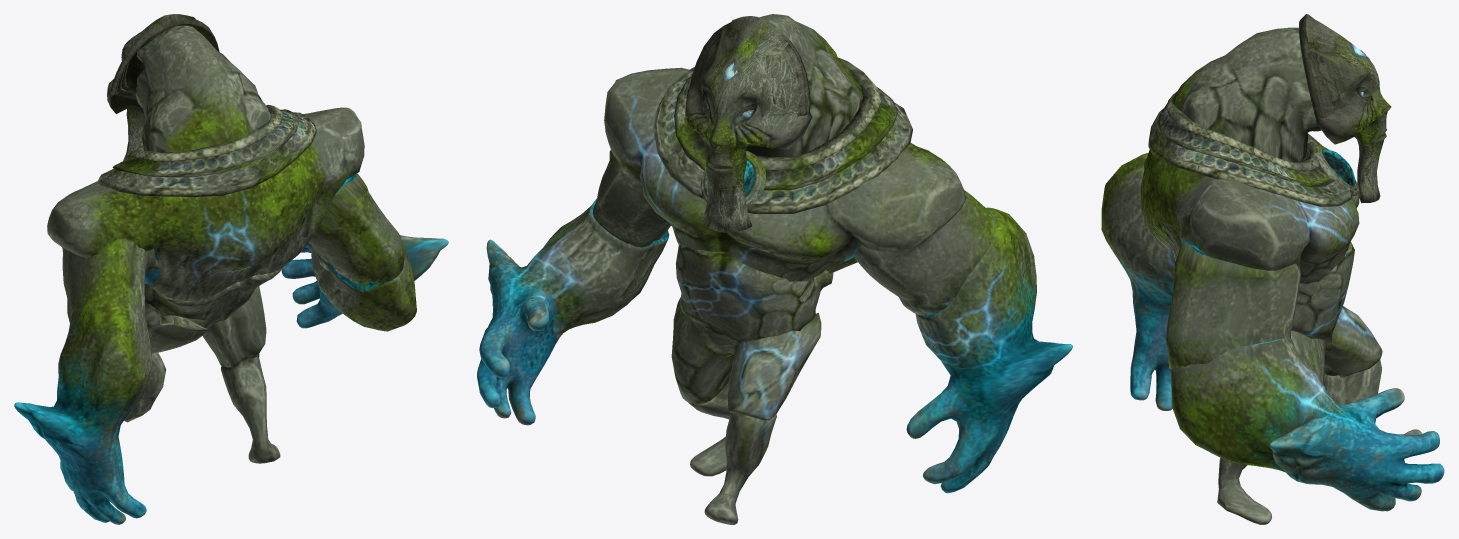
File: stone_sentinel.glb
3 views of the same model, side by side, from view 1: azimuth 30°, elevation 25°; view 2: azimuth 150°, elevation 25°; view 3: azimuth 270°, elevation 25° (orthographic). The views are drawn at different scales.
Parts seen in each view (by area): view 1: torso, L_elbow, head, R_elbow, R_shoulder, L_shoulder, turret01-arms, R_leg, R_hip, pelvis, L_hip, L_leg; view 2: torso, L_elbow, R_elbow, turret01-arms, pelvis, L_shoulder, head, L_hip, R_shoulder, R_hip, L_leg, R_leg; view 3: R_elbow, torso, head, R_shoulder, L_elbow, turret01-arms, pelvis, L_hip, R_leg, L_leg, R_hip.
Boxes of the visible parts, <box> form: torso: <box>47,105,364,302</box>; L_elbow: <box>14,297,152,524</box>; head: <box>135,25,270,152</box>; R_elbow: <box>281,235,448,331</box>; R_shoulder: <box>308,173,404,285</box>; L_shoulder: <box>62,238,160,322</box>; turret01-arms: <box>107,14,219,160</box>; R_leg: <box>221,356,280,463</box>; R_hip: <box>202,286,266,366</box>; pelvis: <box>145,267,282,328</box>; L_hip: <box>145,302,209,353</box>; L_leg: <box>124,353,166,422</box>; torso: <box>604,58,966,281</box>; L_elbow: <box>906,207,1072,493</box>; R_elbow: <box>477,198,669,425</box>; turret01-arms: <box>685,16,812,232</box>; pelvis: <box>676,245,833,356</box>; L_shoulder: <box>853,190,995,315</box>; head: <box>746,14,862,156</box>; L_hip: <box>727,313,821,420</box>; R_shoulder: <box>592,150,670,261</box>; R_hip: <box>671,297,734,404</box>; L_leg: <box>704,412,776,524</box>; R_leg: <box>688,384,730,476</box>; R_elbow: <box>1170,338,1444,511</box>; torso: <box>1140,91,1359,284</box>; head: <box>1172,27,1321,162</box>; R_shoulder: <box>1165,243,1300,369</box>; L_elbow: <box>1101,153,1175,410</box>; turret01-arms: <box>1299,14,1391,203</box>; pelvis: <box>1291,242,1354,353</box>; L_hip: <box>1324,306,1382,377</box>; R_leg: <box>1217,457,1271,524</box>; L_leg: <box>1323,360,1421,434</box>; R_hip: <box>1291,330,1326,383</box>.
Bounding box in the file's own units: 30.73 × 27.19 × 17.95.
Materials: 1 (1 with a texture image).
